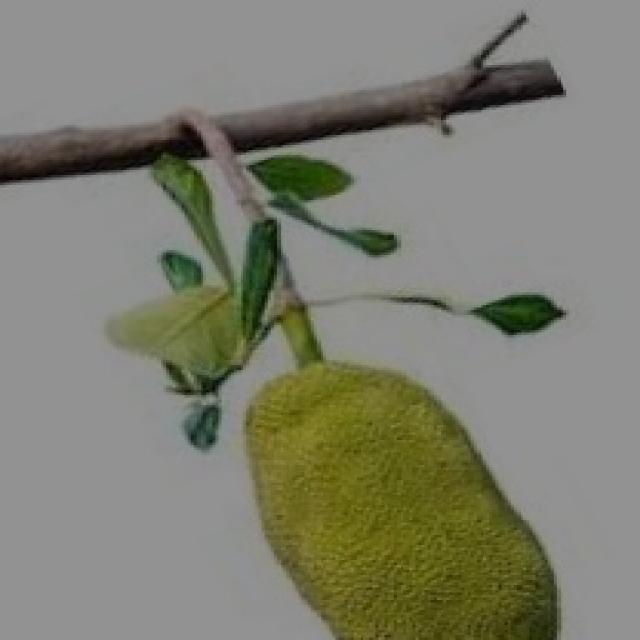Fruit: (221, 337, 600, 640)
